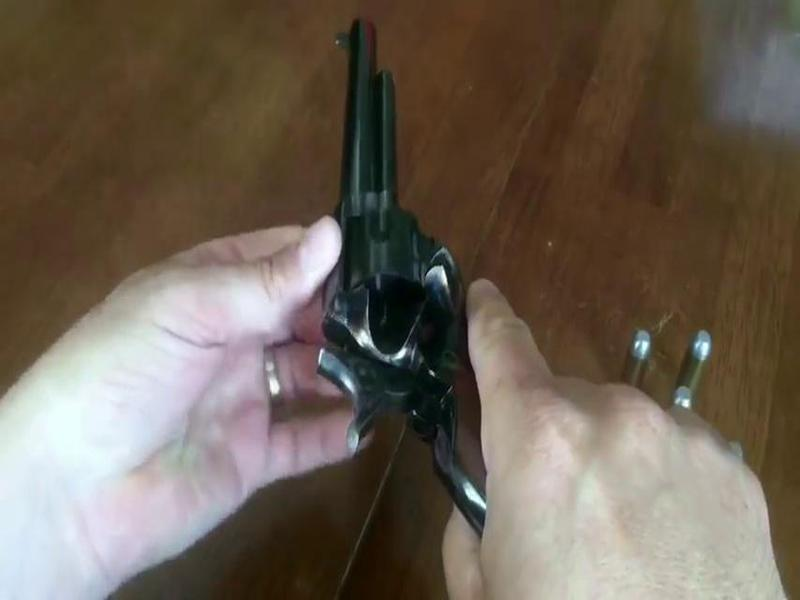Revolver: (268, 26, 564, 509)
